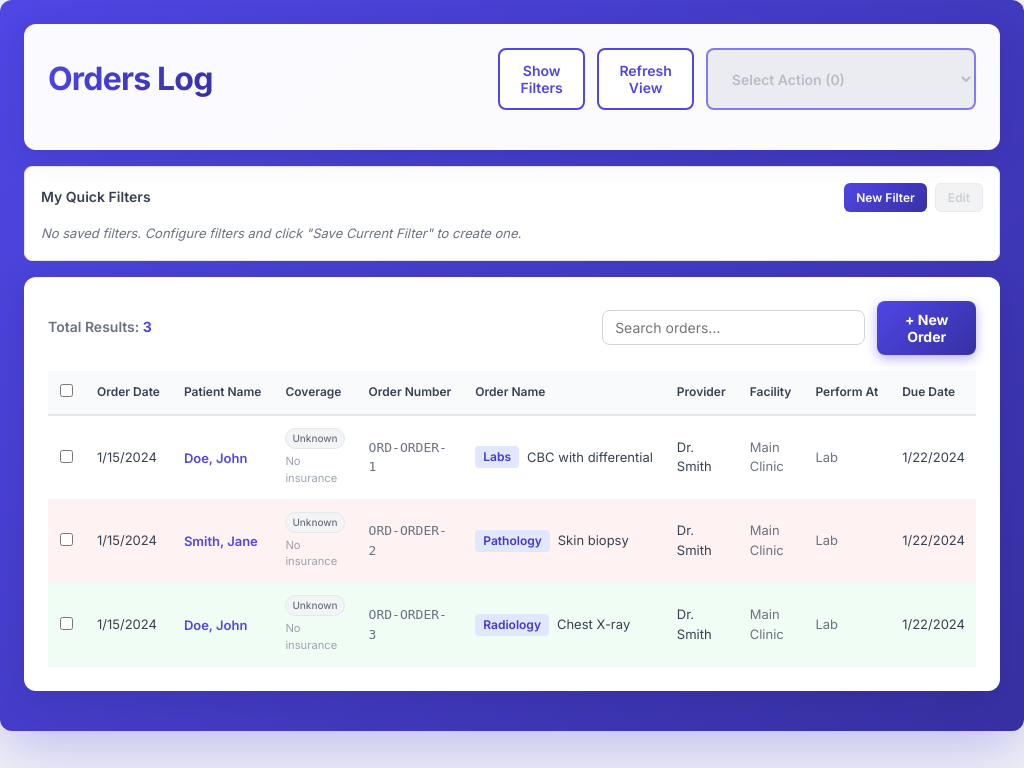
Test: OrdersPageEnhanced › shows empty state when no orders match filters
Expected: the text "CBC with differential" is shown, [527,448,653,467]
// Apply filter that matches no orders
In the field with placeholder "Search orders...": (734, 328) [602,310,865,345], type "nonexistent"
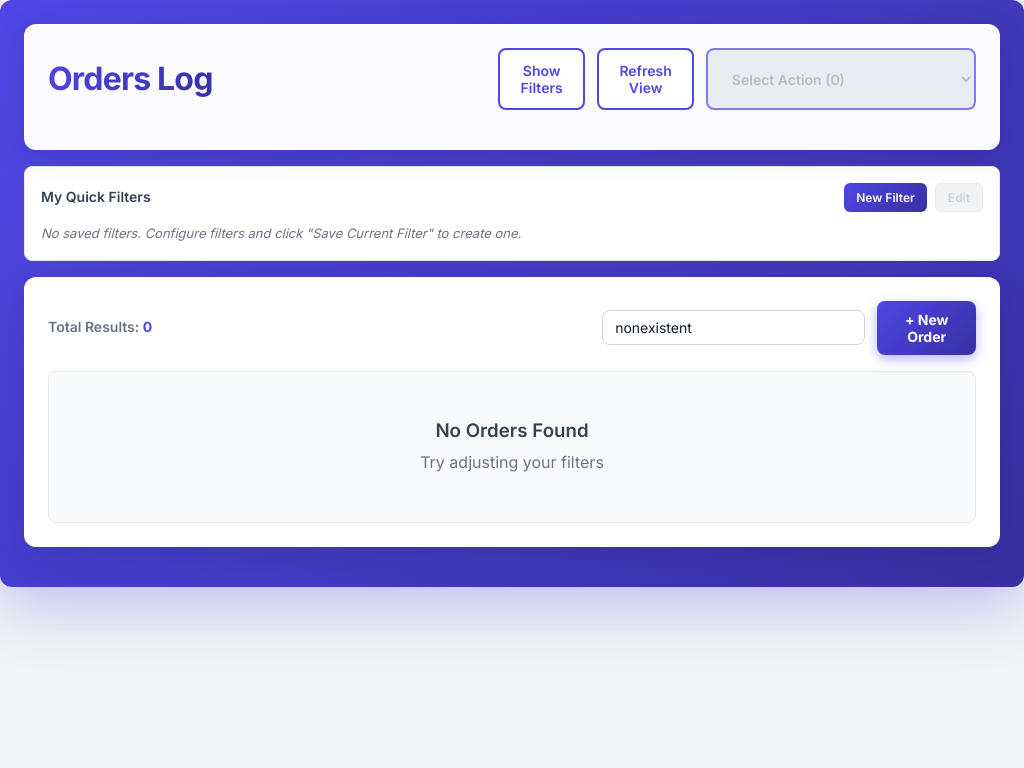
Expected: the heading "No Orders Found" is shown, [435,418,589,442]
Expected: the text "Try adjusting your filters" is shown, [420,452,604,472]
